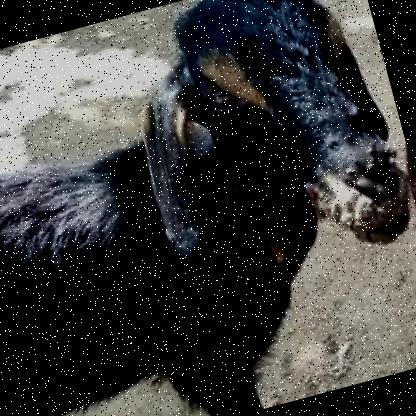ppr: (325, 139, 406, 245)
